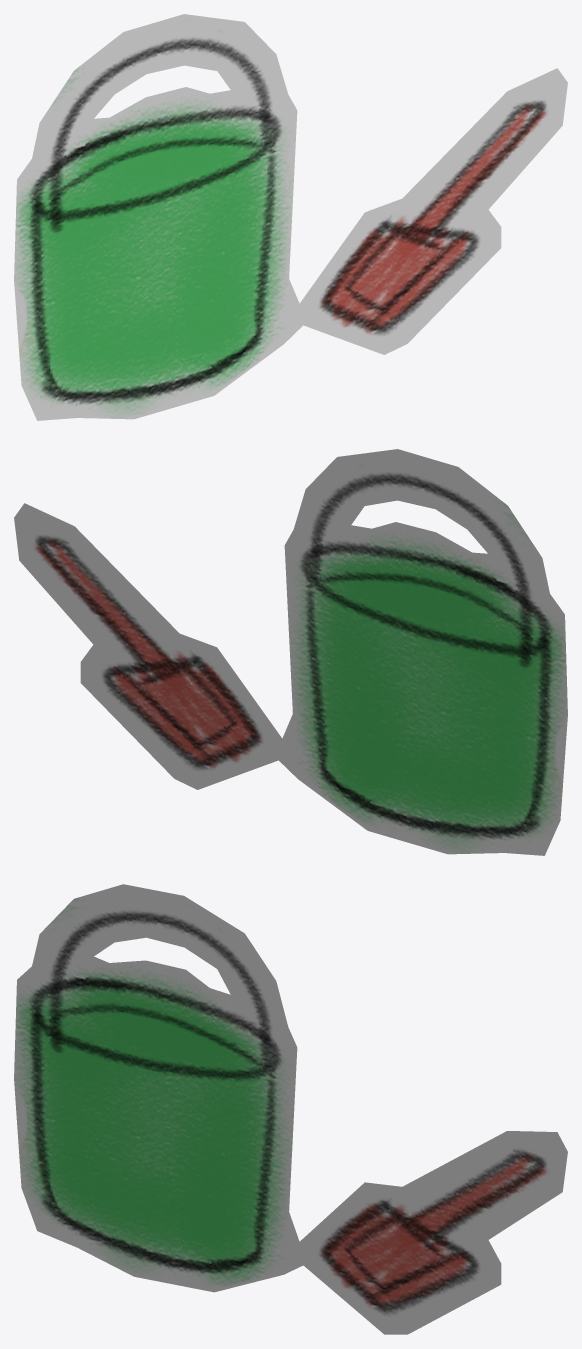
The model's file is Vattenkanna.fbx.
3 views of the same model, one above another, from view 1: azimuth 30°, elevation 25°; view 2: azimuth 150°, elevation 25°; view 3: azimuth 330°, elevation 25° (orthographic).
Visible parts, largest first — view 1: vatten; view 2: vatten; view 3: vatten.
Boxes of the visible parts, box(x1,y1,x2,y2) form: vatten: box(14, 14, 567, 420); vatten: box(14, 449, 567, 855); vatten: box(14, 884, 567, 1334).
Bounding box in the file's own units: 48.41 × 32.83 × 5.37e-06.
Materials: 1 (1 with a texture image).
